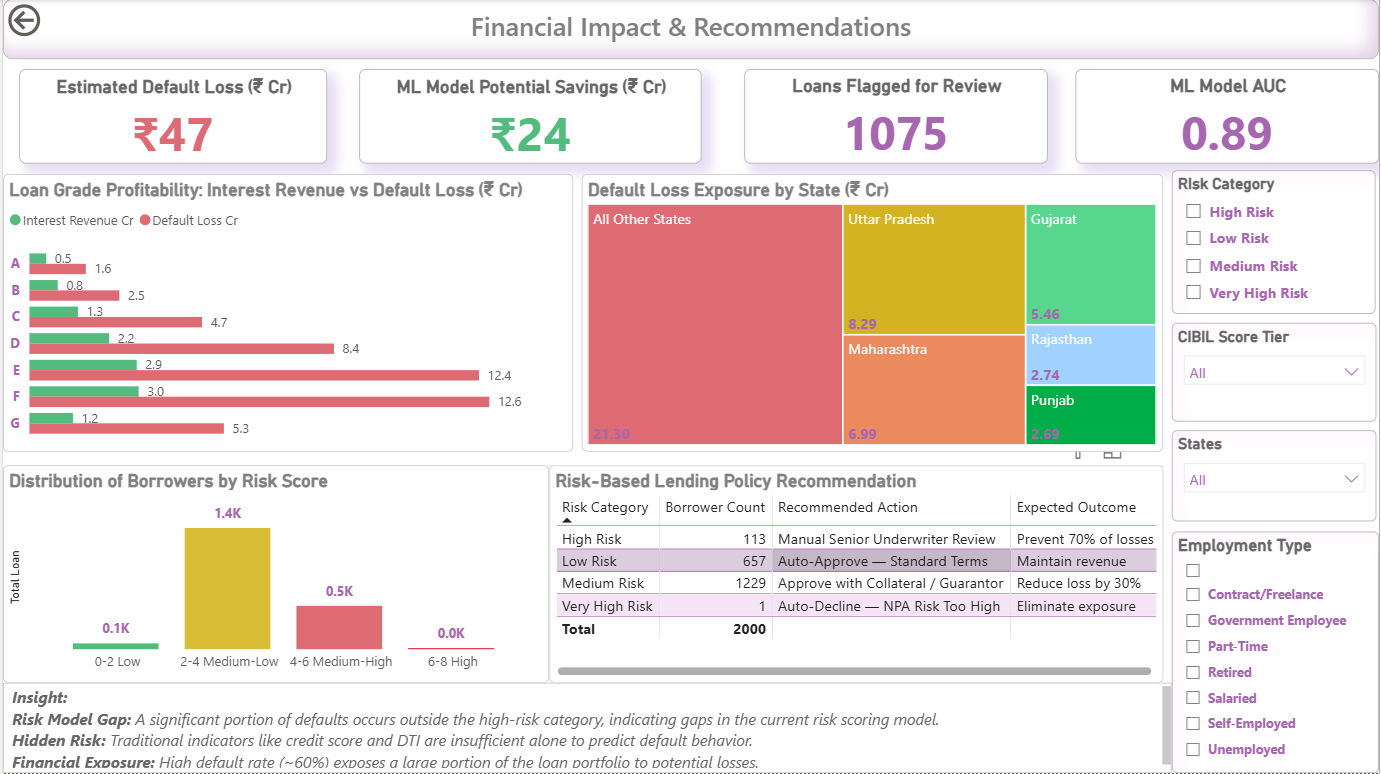

The dashboard page shown, as its layout file describes it:
{"tool":"powerbi","page":{"name":"Financial Impact","canvas":[1280,720],"ordinal":2},"visuals":[{"type":"card","title":"Estimated Default Loss (₹ Cr)","fields":{"Values":["loan_default_clean_analysed.Estimated Loss"]},"box":[15.1,65.1,286,88.4],"z":0},{"type":"textbox","box":[0,0,1280.2,55.8],"z":1000},{"type":"card","title":"ML Model AUC","fields":{"Values":["select","loan_default_clean_analysed.Model AUC"]},"box":[997.7,65.1,282.6,88.4],"z":2000},{"type":"card","title":"ML Model Potential Savings (₹ Cr)","fields":{"Values":["loan_default_clean_analysed.ML Savings Crore"]},"box":[331.4,65.1,318.6,88.4],"z":3000},{"type":"card","title":"Loans Flagged for Review","fields":{"Values":["Sum(loan_default_clean_analysed.ml_risk_flag)"]},"box":[689.5,65.1,282.6,88.4],"z":4000},{"type":"clusteredBarChart","title":"Loan Grade Profitability: Interest Revenue vs Default Loss (₹ Cr)","fields":{"Category":["loan_default_clean_analysed.loan_grade"],"Y":["loan_default_clean_analysed.Interest Revenue Crore","loan_default_clean_analysed.Default Loss Crore"]},"box":[0,162.8,530.2,258.1],"z":5000},{"type":"clusteredColumnChart","title":"Distribution of Borrowers by Risk Score","fields":{"Y":["CountNonNull(loan_default_clean_analysed.loan_id)"],"Category":["loan_default_clean_analysed.Risk Bucket"]},"box":[0,433.7,508.1,202.3],"z":6000},{"type":"tableEx","title":"Risk-Based Lending Policy Recommendation","fields":{"Values":["recommendation.Risk Category","loan_default_clean_analysed.loan_id","recommendation.Recommended Action","recommendation.Expected Outcome"]},"box":[508.1,433.7,570.9,202.3],"z":7000},{"type":"treemap","title":"Default Loss Exposure by State (₹ Cr)","fields":{"Group":["loan_default_clean_analysed.State Group"],"Values":["loan_default_clean_analysed.Default Loss Crore"]},"box":[538.4,162.8,540.7,258.1],"z":8000},{"type":"actionButton","box":[0,0,100,39.5],"z":9000},{"type":"slicer","title":"RIsk Category","fields":{"Values":["loan_default_clean_analysed.risk_category"]},"box":[1087.2,159.3,189.5,133.7],"z":9001},{"type":"slicer","title":"CIBIL Score Tier","fields":{"Values":["loan_default_clean_analysed.credit_tier"]},"box":[1087.2,301.2,190.7,91.9],"z":9002},{"type":"slicer","title":"States","fields":{"Values":["loan_default_clean_analysed.state"]},"box":[1087.2,401.2,190.7,84.9],"z":9003},{"type":"textbox","box":[0,636,1087.2,83.7],"z":9004},{"type":"slicer","title":"Employment Type","fields":{"Values":["loan_default_clean_analysed.employment_status"]},"box":[1087.2,495.4,193,224.4],"z":9005}]}

Visuals, with their boxes in screenshot pixels (x1, y1, x2, y2), scaled from the page's 1280x720 canvas onto the 1381x774 screenshot:
"Estimated Default Loss (₹ Cr)" card: [x1=16, y1=70, x2=325, y2=165]
textbox: [x1=0, y1=0, x2=1380, y2=60]
"ML Model AUC" card: [x1=1076, y1=70, x2=1380, y2=165]
"ML Model Potential Savings (₹ Cr)" card: [x1=358, y1=70, x2=701, y2=165]
"Loans Flagged for Review" card: [x1=744, y1=70, x2=1049, y2=165]
"Loan Grade Profitability: Interest Revenue vs Default Loss (₹ Cr)" clusteredBarChart: [x1=0, y1=175, x2=572, y2=452]
"Distribution of Borrowers by Risk Score" clusteredColumnChart: [x1=0, y1=466, x2=548, y2=684]
"Risk-Based Lending Policy Recommendation" tableEx: [x1=548, y1=466, x2=1164, y2=684]
"Default Loss Exposure by State (₹ Cr)" treemap: [x1=581, y1=175, x2=1164, y2=452]
actionButton: [x1=0, y1=0, x2=108, y2=42]
"RIsk Category" slicer: [x1=1173, y1=171, x2=1377, y2=315]
"CIBIL Score Tier" slicer: [x1=1173, y1=324, x2=1379, y2=423]
"States" slicer: [x1=1173, y1=431, x2=1379, y2=523]
textbox: [x1=0, y1=684, x2=1173, y2=773]
"Employment Type" slicer: [x1=1173, y1=533, x2=1380, y2=773]
